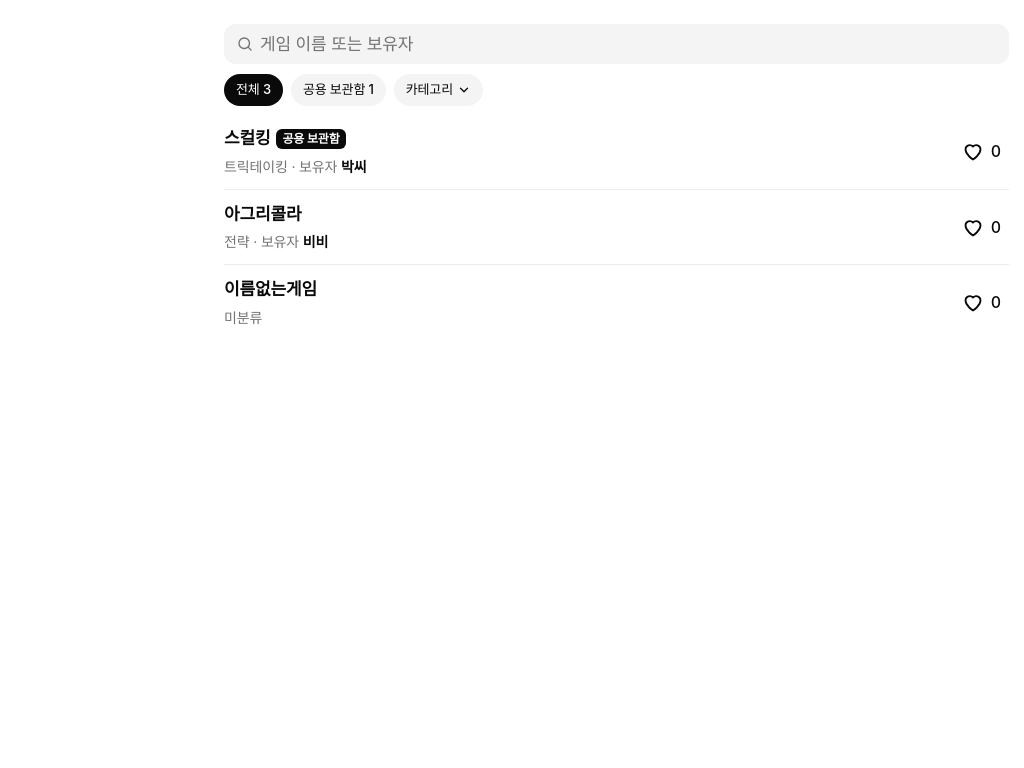
Test case: BoardGamesPage › 게임을 누르면 상세 시트: 회원에게는 보유자·수정 버튼
The width and height of the screenshot is (1024, 768).
Click the button with aria-label "스컬킹 상세 보기": x=247, y=139 left=224, top=126, right=270, bottom=152
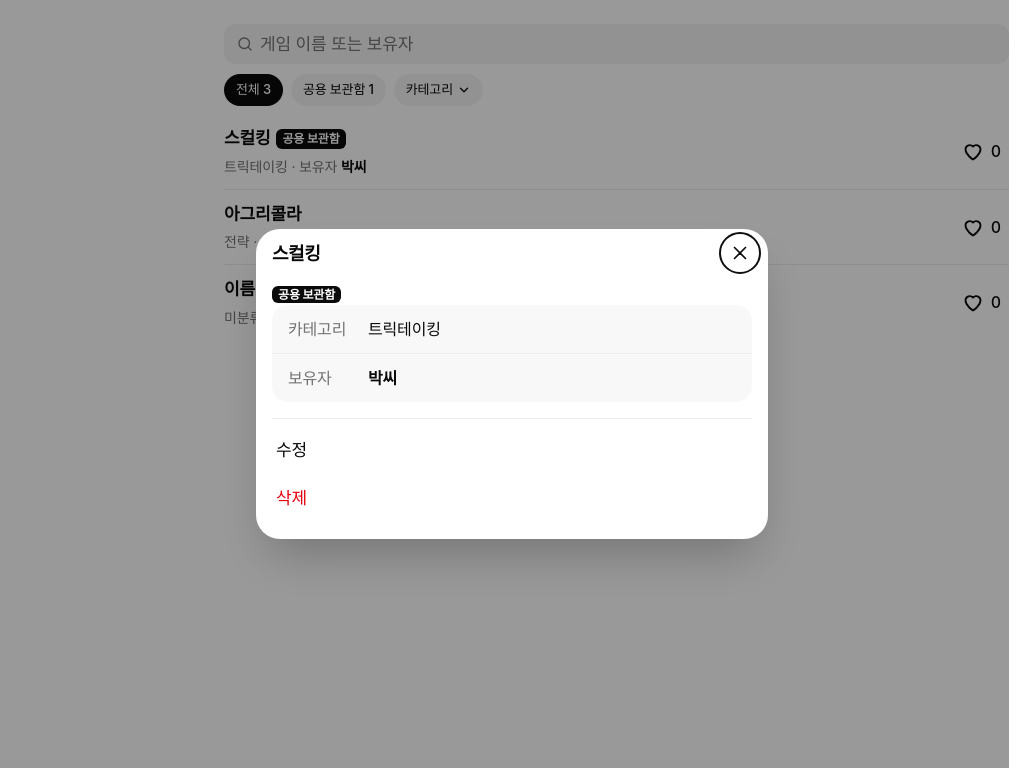
Now the dialog "스컬킹" shows "트릭테이킹", box left=368, top=319, right=441, bottom=339
Now the dialog "스컬킹" shows "박씨", box left=368, top=368, right=397, bottom=388
Now the dialog "스컬킹" shows "공용 보관함", box left=278, top=287, right=335, bottom=302
